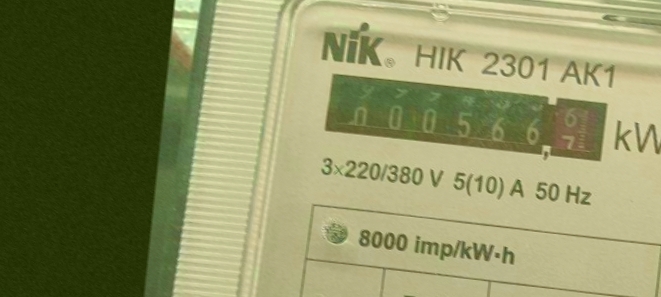0: (418, 103, 439, 134), (385, 98, 404, 129), (349, 100, 370, 125)
5: (453, 107, 474, 137)
6: (522, 112, 544, 145), (486, 111, 508, 141), (561, 103, 580, 129)
7: (558, 131, 576, 150)
9: (355, 78, 375, 100)
screen: (314, 62, 613, 168)
